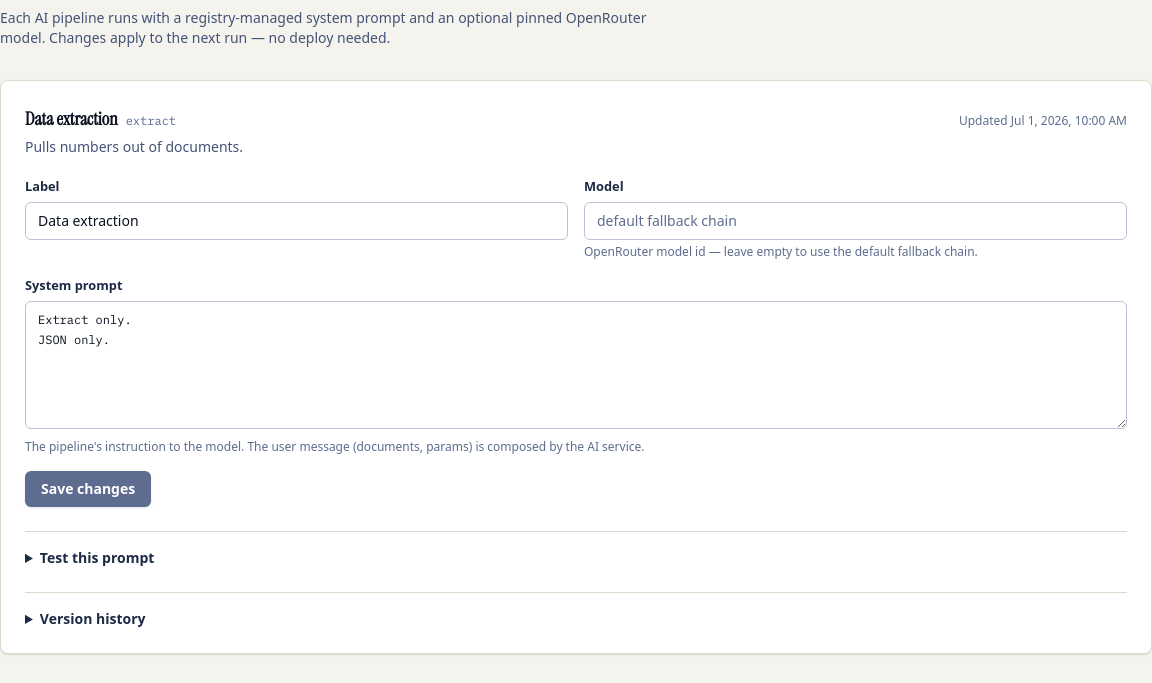
Test: BotPromptsPage — version history › diffs a version against the live content, and says so when there is nothing to show
The width and height of the screenshot is (1152, 683).
Click the heading "Version history". click: click(93, 619)
box: [40,609,146,628]
(page scrolled)
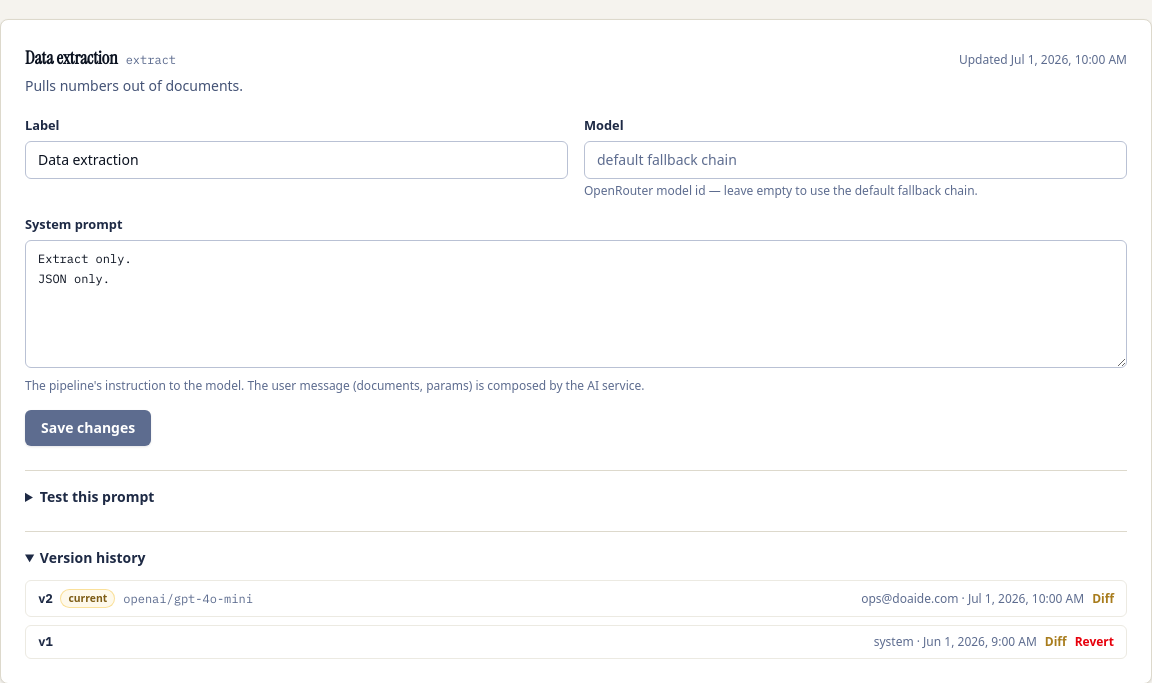
Check: the text "v1" is shown, box [38,634,52,650]
Click the button "Diff" next to "Jun 1, 2026, 9:00 AM". click: click(1056, 642)
box: [1045,634,1067,650]
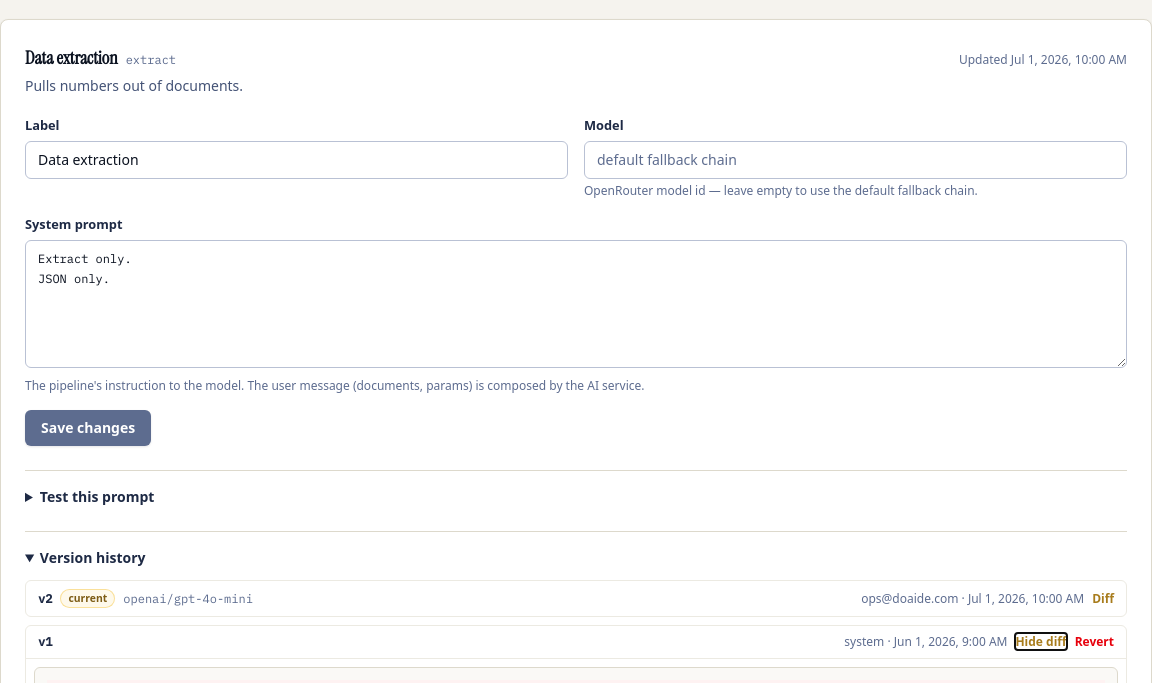
Check: the button "Hide diff" is shown, box [1015,634,1067,650]
Click the button "Diff". click: click(1103, 599)
box: [1092,591,1114,607]
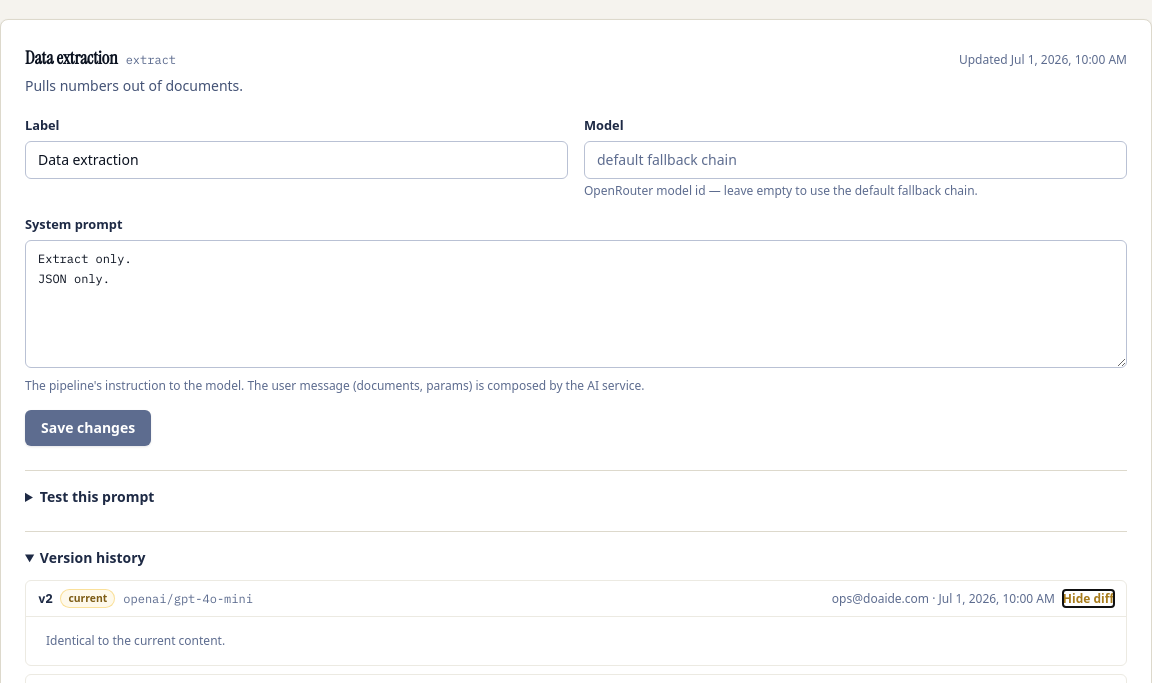
Check: the text "− Extract everything." is not shown
Check: the text "Identical to the current content." is shown, box [46,632,225,649]
Click the button "Hide diff". click: click(1088, 599)
box: [1063,591,1114,607]
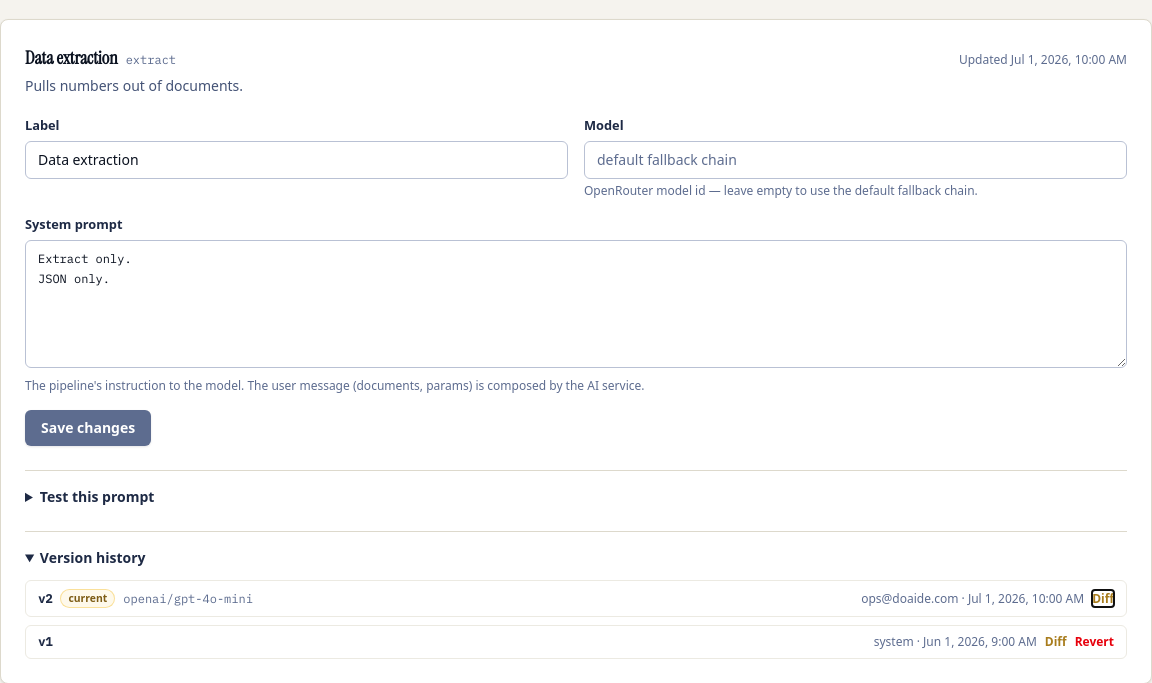
Check: the text "Identical to the current content." is gone
